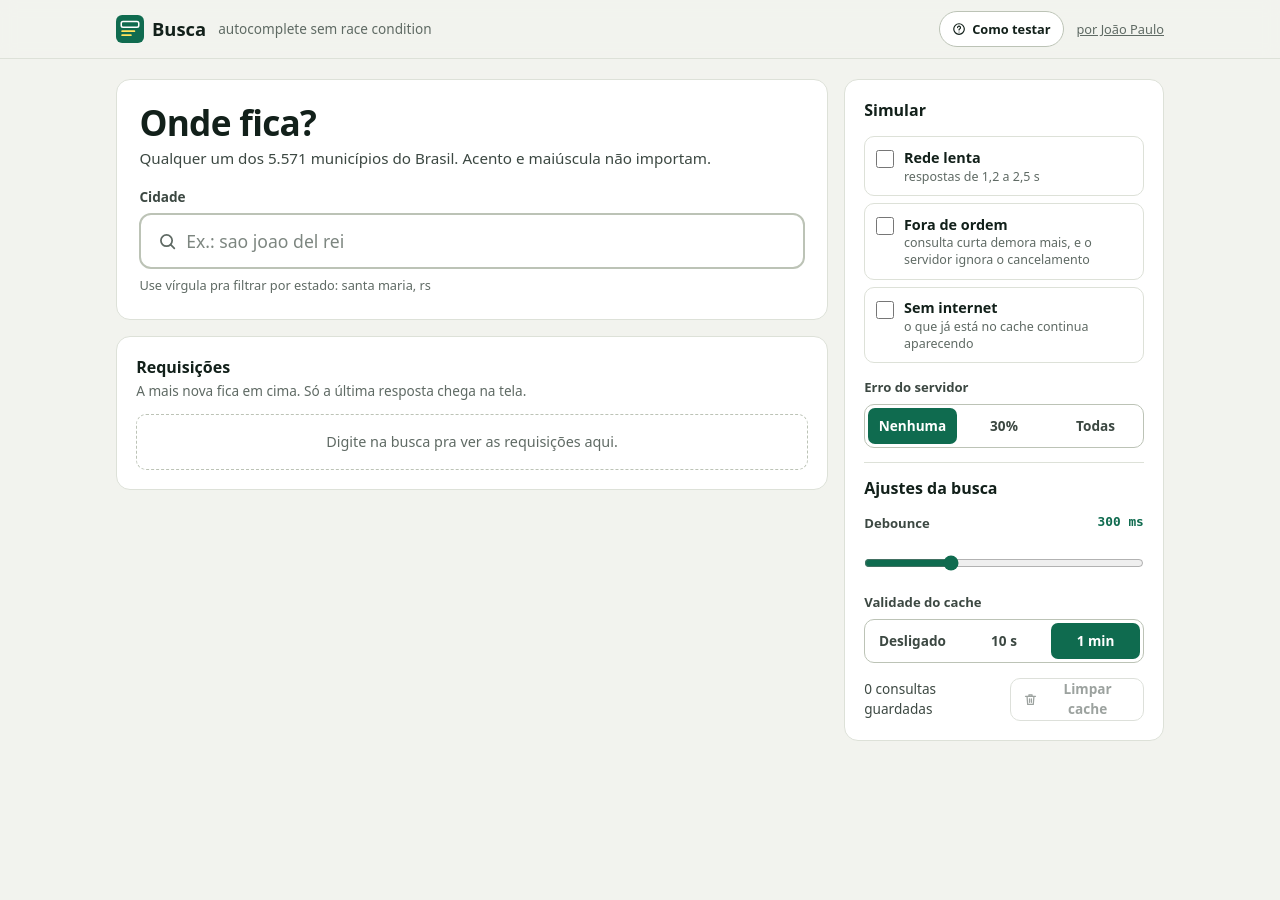
Test: tela de busca › "sao" acha "São ...", destaca o trecho com acento e escolhe pelo teclado
In the dropdown labelled "Cidade": point(490, 242) [186,216,795,268], type "sao jose dos campos"
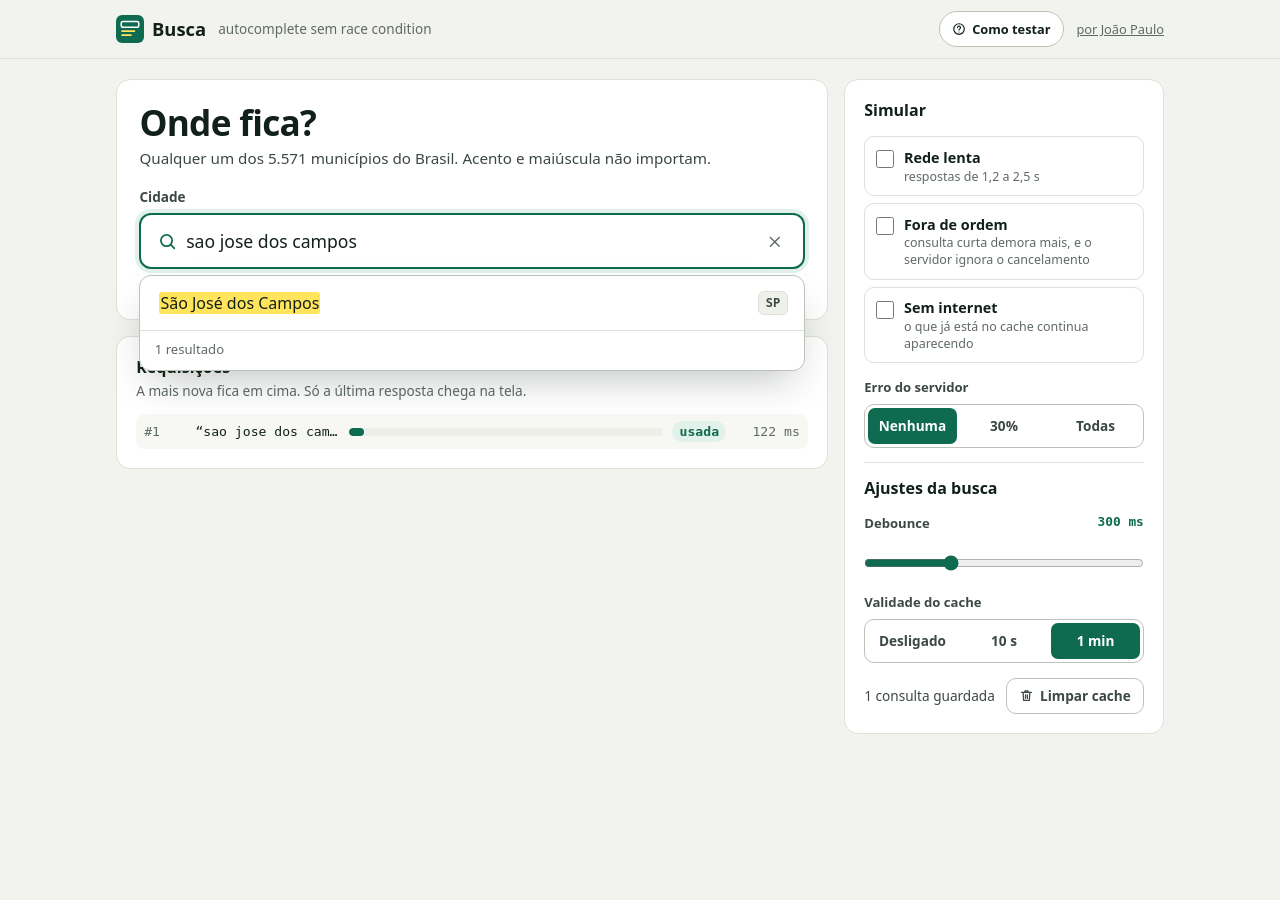
expect the text "São José dos Campos" is shown: met, box [159,292,320,314]
expect the text "SP" is shown: met, box [758,292,788,315]
Press Arrowdown Enter
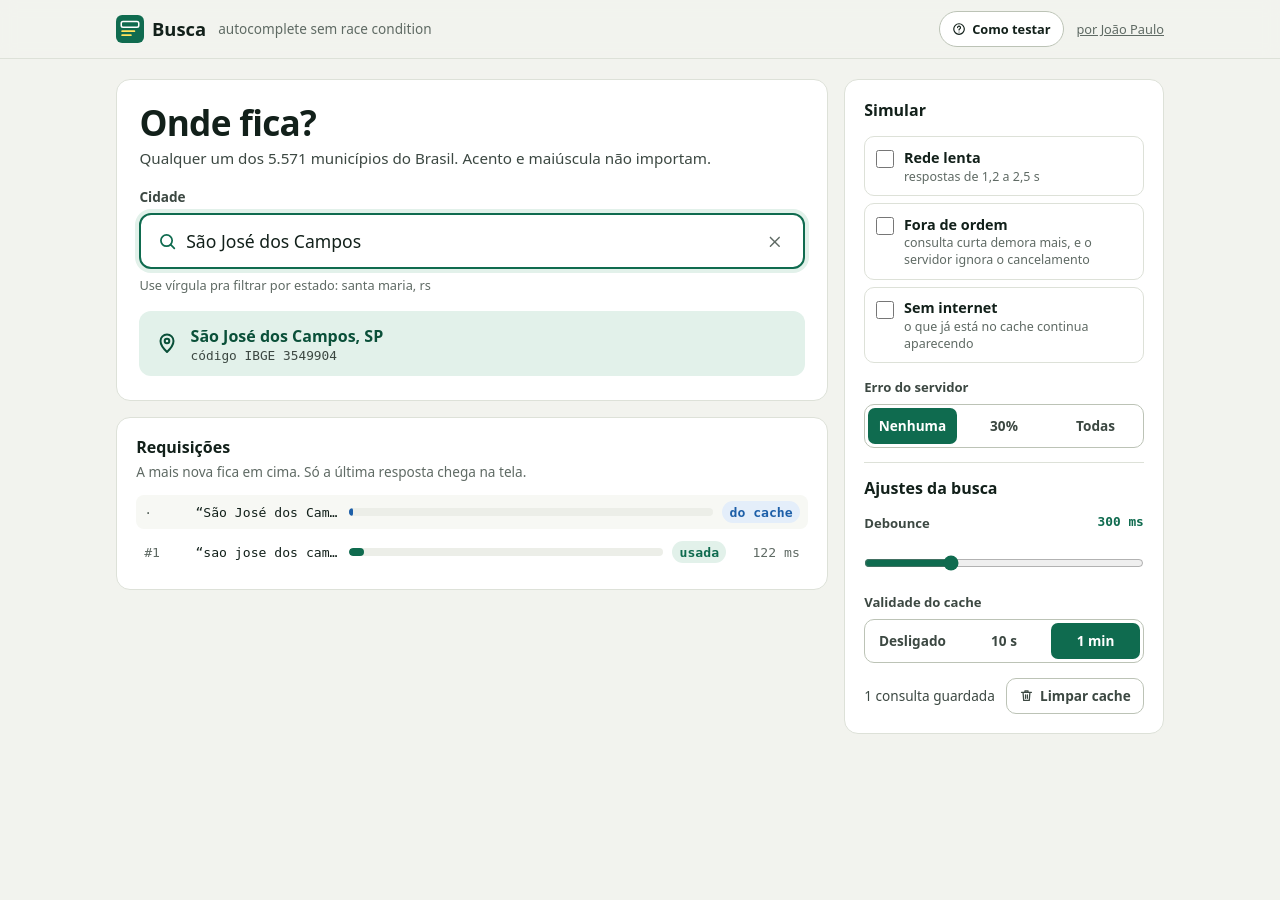
expect the dropdown labelled "Cidade" holds "São José dos Campos": met
expect the text "código IBGE 3549904" is shown: met, box [191,348,337,363]
# Escolhida vira busca recente.
Clear the dropdown labelled "Cidade": point(466, 242) [186,216,747,268]
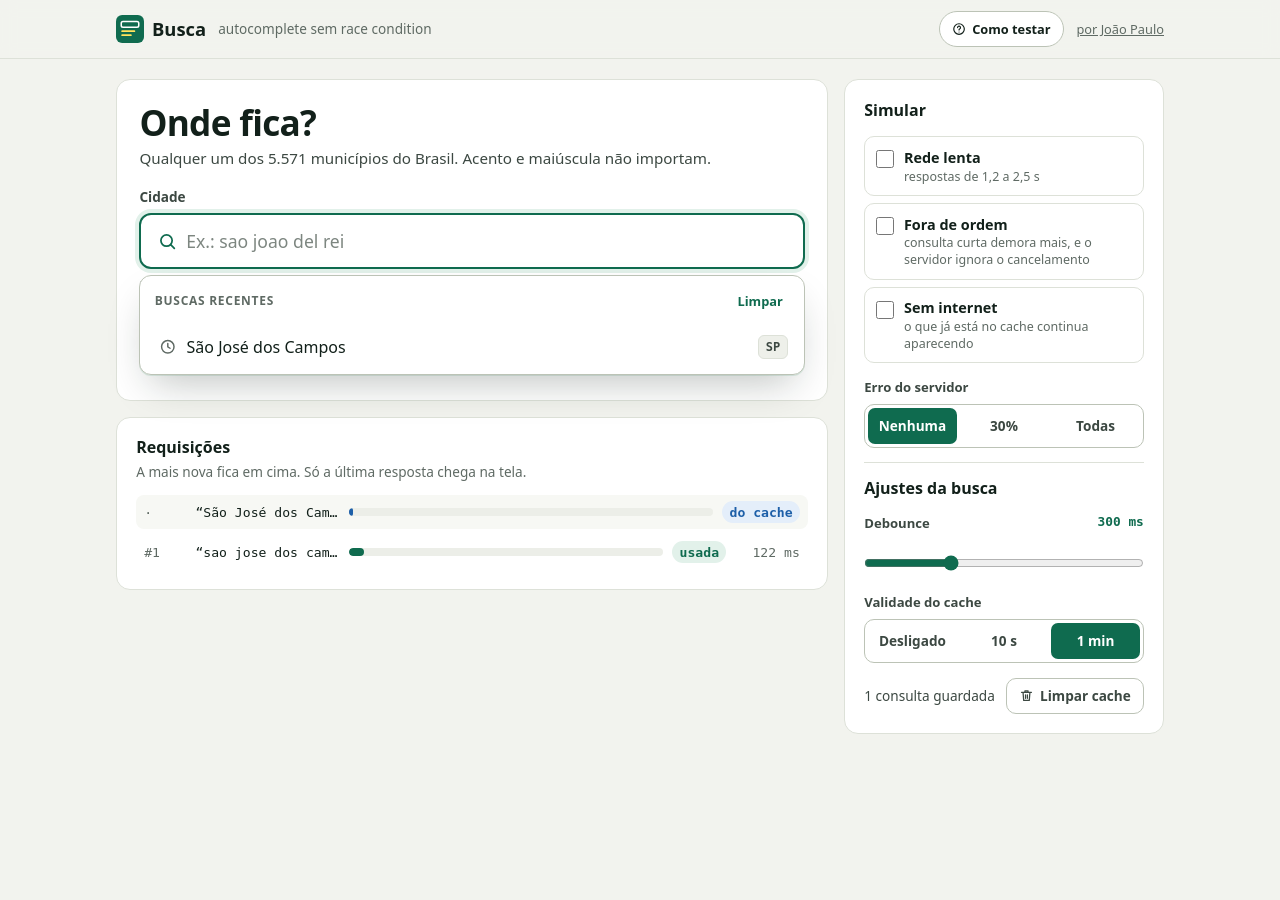
expect the heading "Requisições" is shown: met, box [136,436,230,458]
expect the list named "Buscas recentes" shows "São José dos Campos": met, box [187,336,346,358]
